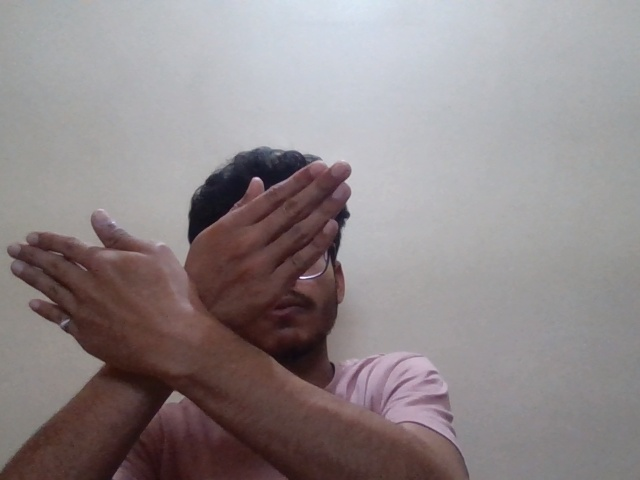feel: (1, 161, 392, 405)
